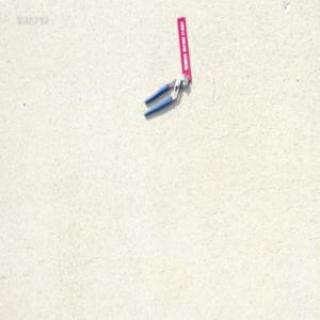LuggageTagtrack_idkeyframe: (176, 14, 191, 82)
Pliertrack_idkeyframe: (142, 73, 187, 117)
